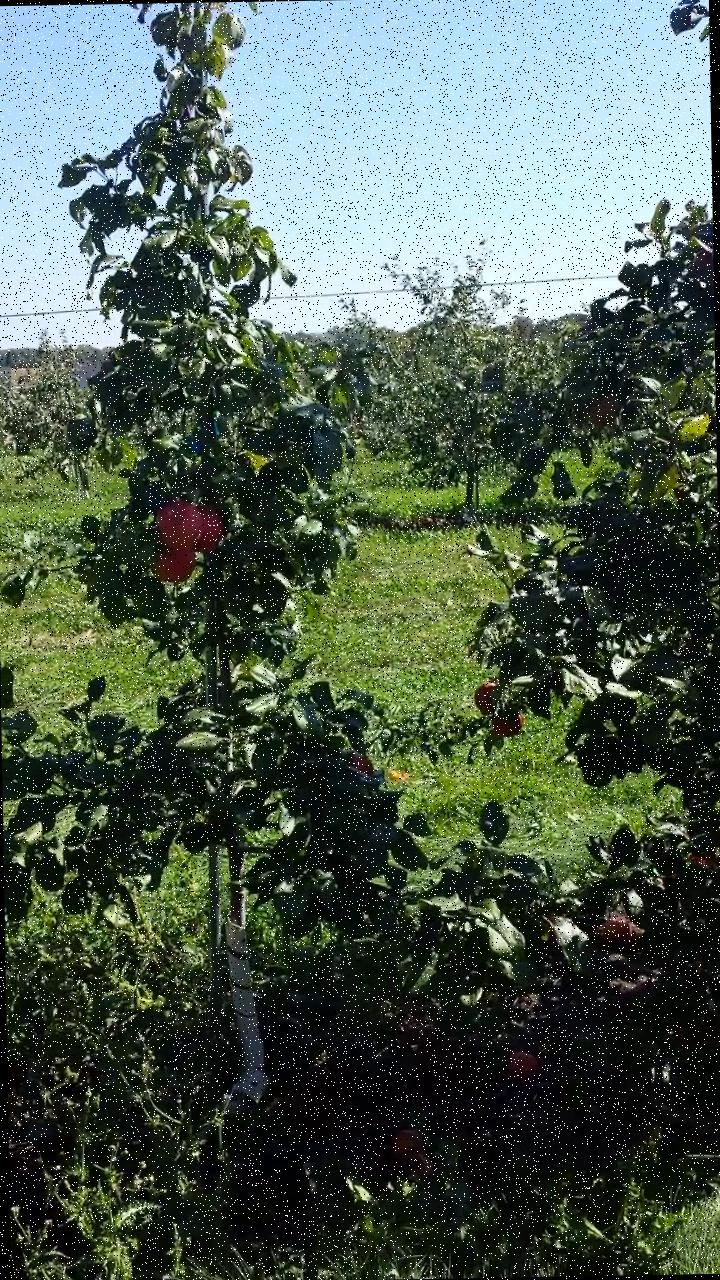Apple: (154, 500, 202, 552), (149, 542, 197, 584), (588, 392, 622, 430), (195, 506, 224, 550), (492, 712, 526, 741), (474, 682, 500, 716), (344, 751, 373, 778), (698, 250, 712, 269)
